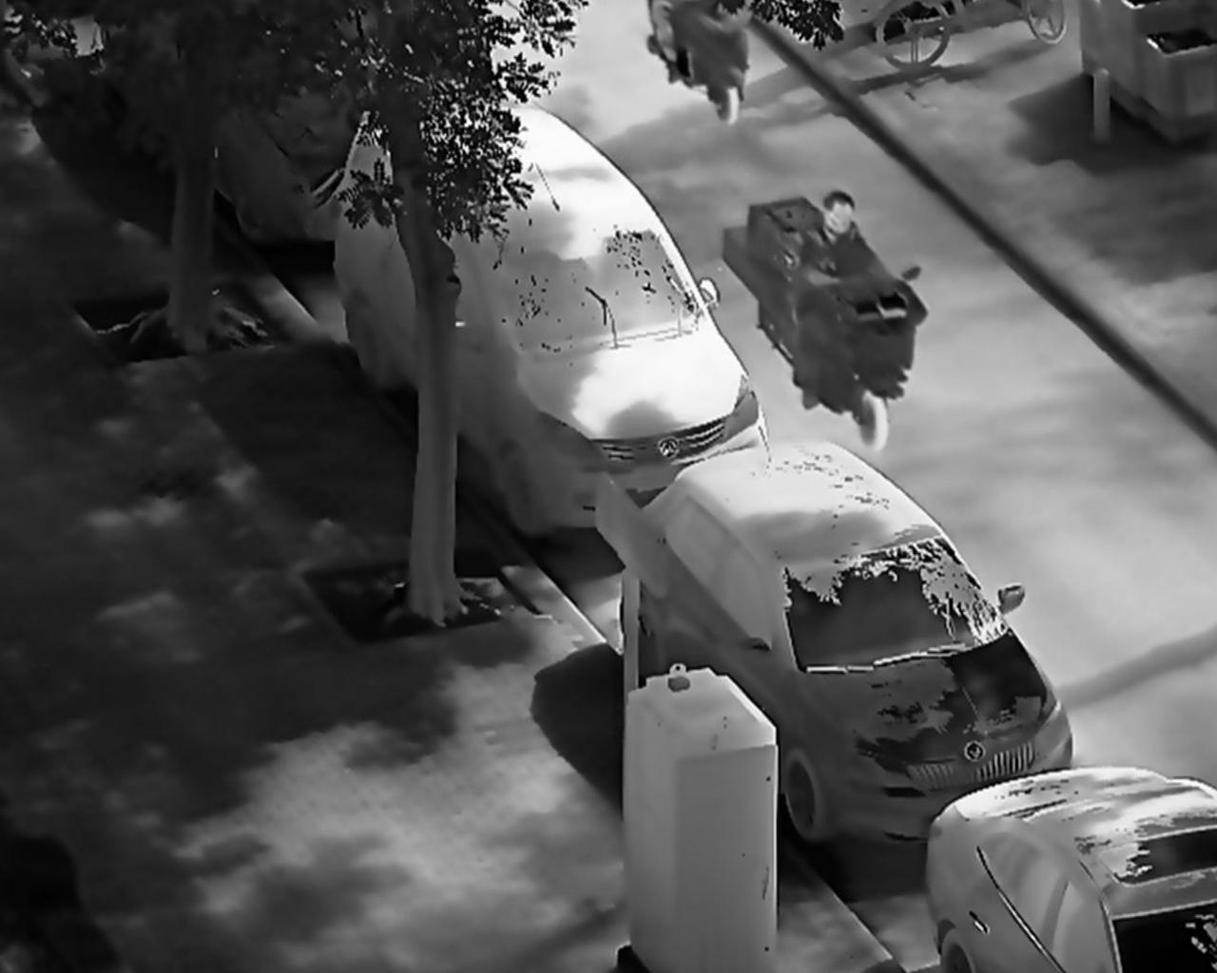person: (780, 188, 903, 328)
